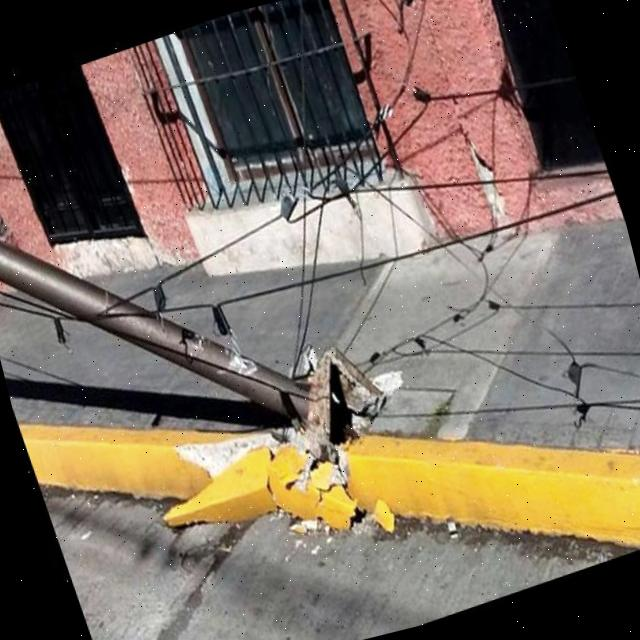Broken Pole: (0, 236, 385, 464)
